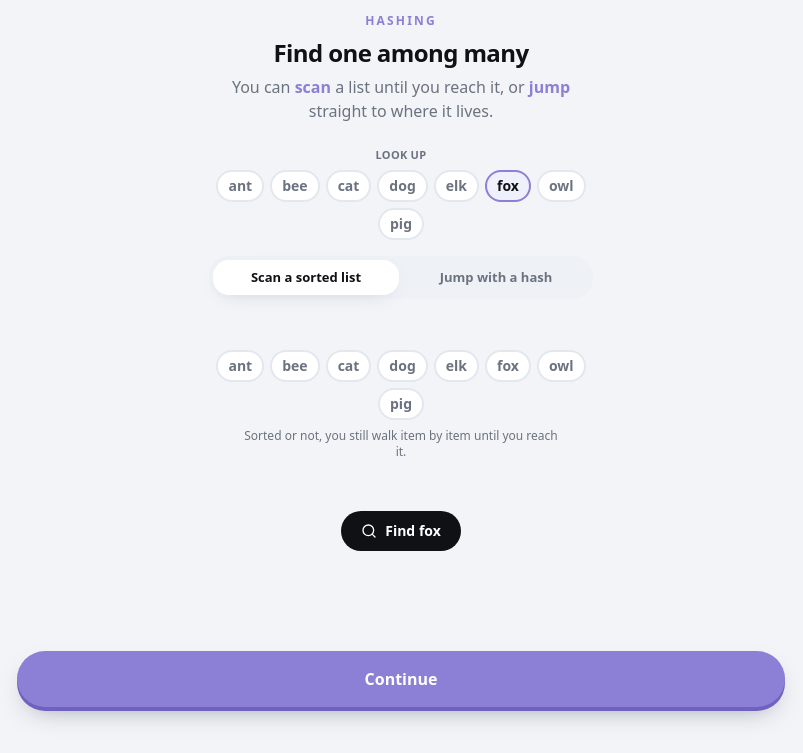
Test: abstract demo (beat 1, Willow-styled, not the warehouse) › Continue advances to the interactive teach
Click the button "Continue": point(401, 679) [17,651,785,707]
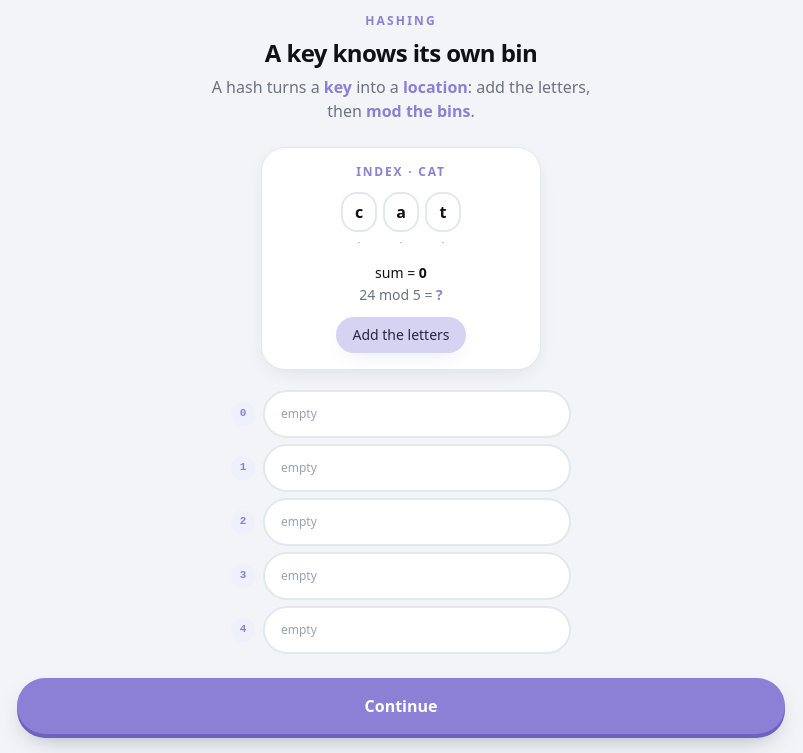
Check: the heading "A key knows its own bin" is shown, box [265,36,537,69]
